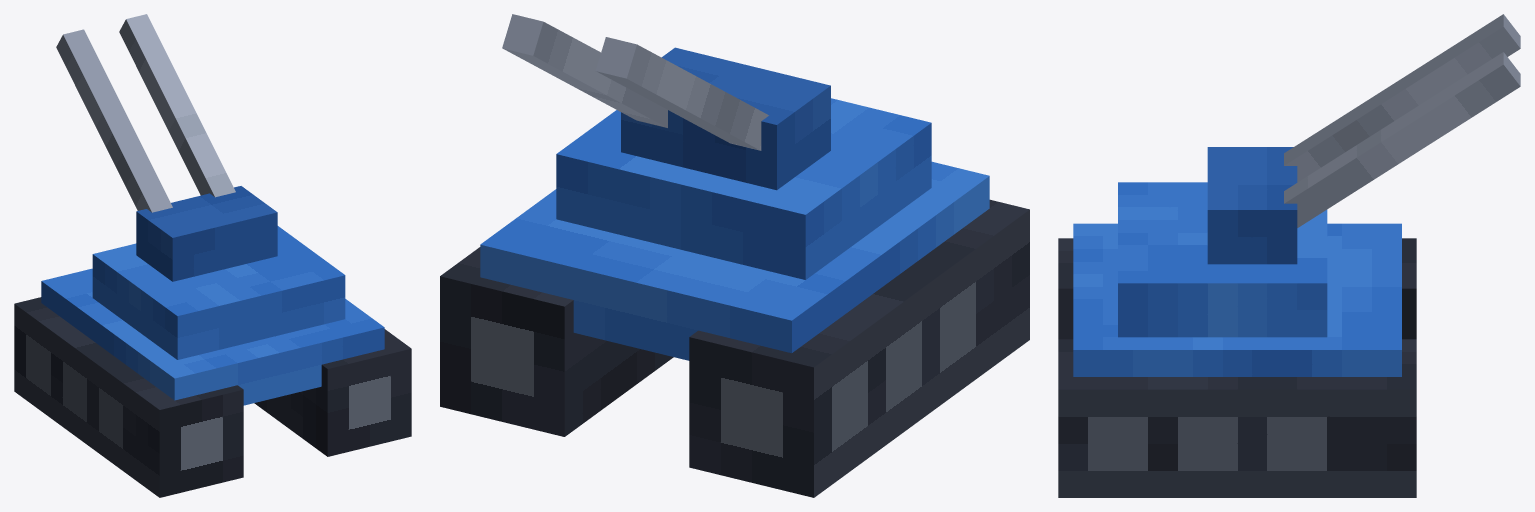
Rendered from antiair_blue.glb.
The picture shows the model from 3 angles, left to right: view 1: azimuth 30°, elevation 25°; view 2: azimuth 150°, elevation 25°; view 3: azimuth 270°, elevation 25°; orthographic projection. The views are drawn at different scales.
Visible parts, largest first — view 1: chassis, turret, hull, barrel; view 2: chassis, turret, hull, barrel; view 3: chassis, turret, hull, barrel.
Part boxes in pixels (left/top/right/bottom): chassis: left=14, top=297, right=411, bottom=497; turret: left=92, top=186, right=345, bottom=359; hull: left=41, top=268, right=384, bottom=405; barrel: left=56, top=14, right=235, bottom=212; chassis: left=440, top=199, right=1029, bottom=497; turret: left=556, top=47, right=931, bottom=279; hull: left=480, top=161, right=989, bottom=360; barrel: left=502, top=14, right=768, bottom=150; chassis: left=1058, top=238, right=1416, bottom=497; turret: left=1118, top=147, right=1327, bottom=337; hull: left=1073, top=223, right=1401, bottom=376; barrel: left=1284, top=14, right=1520, bottom=227.
Size of the model in its own units: 0.75 by 0.8841 by 0.9674.
Materials: 1 (1 with a texture image).
